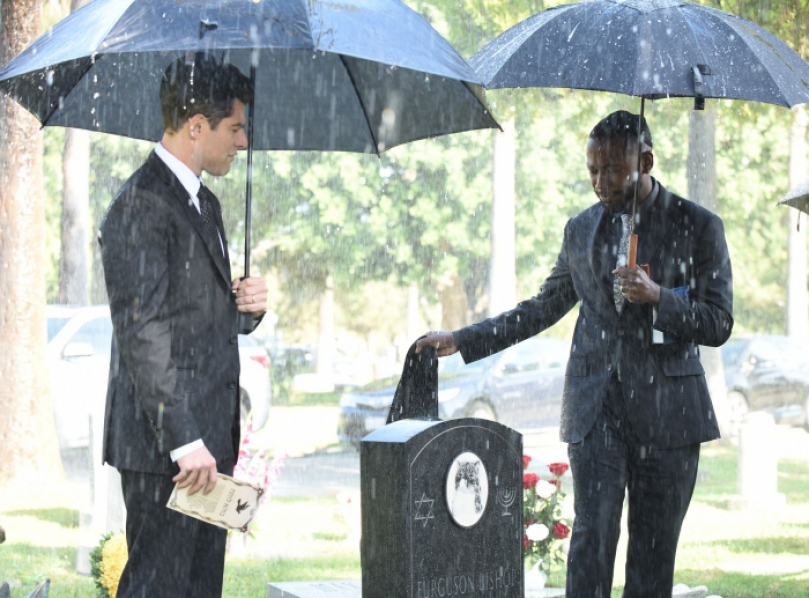person: (411, 105, 745, 597), (96, 54, 275, 598)
